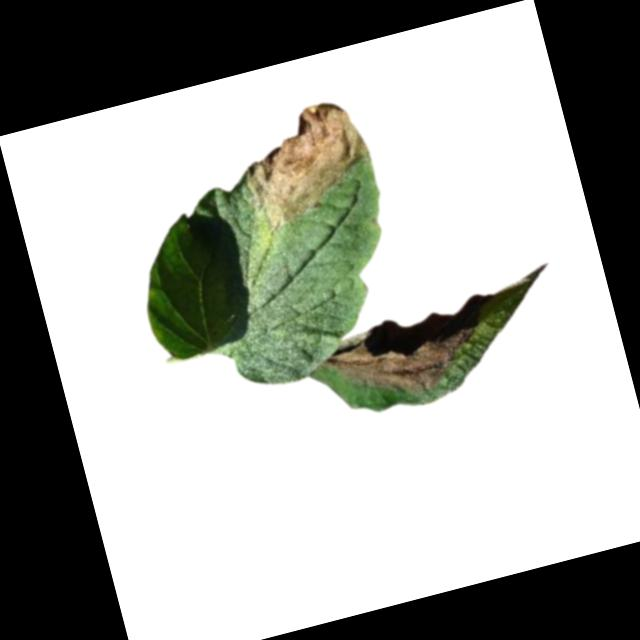Late_blight: (227, 92, 383, 237), (328, 314, 487, 412)
